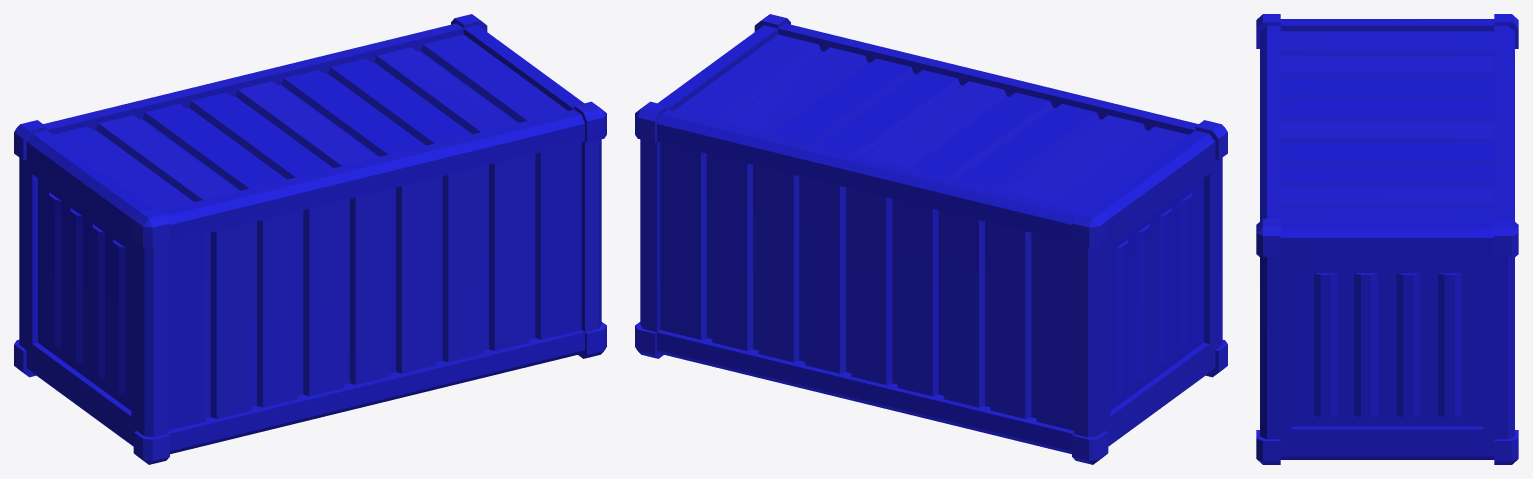
The model's file is Container3.fbx.
3 renders of one model, left to right at view 1: azimuth 30°, elevation 25°; view 2: azimuth 150°, elevation 25°; view 3: azimuth 270°, elevation 25°, orthographic. The views are drawn at different scales.
Visible parts, largest first — view 1: Container3; view 2: Container3; view 3: Container3.
Part boxes in pixels (box(x1,y1,x2,y2)): Container3: box(14, 14, 606, 464); Container3: box(635, 14, 1227, 464); Container3: box(1256, 14, 1518, 464).
Bounding box in the file's own units: 310 × 157 × 157.
